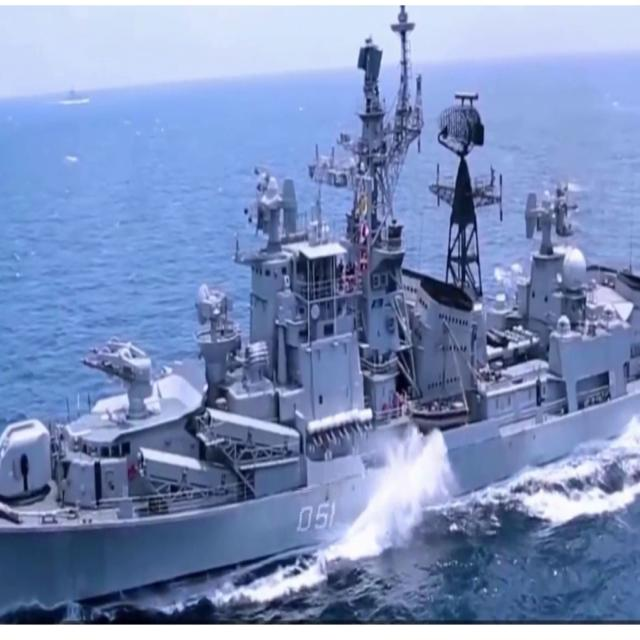OCR: (286, 488, 337, 539)
